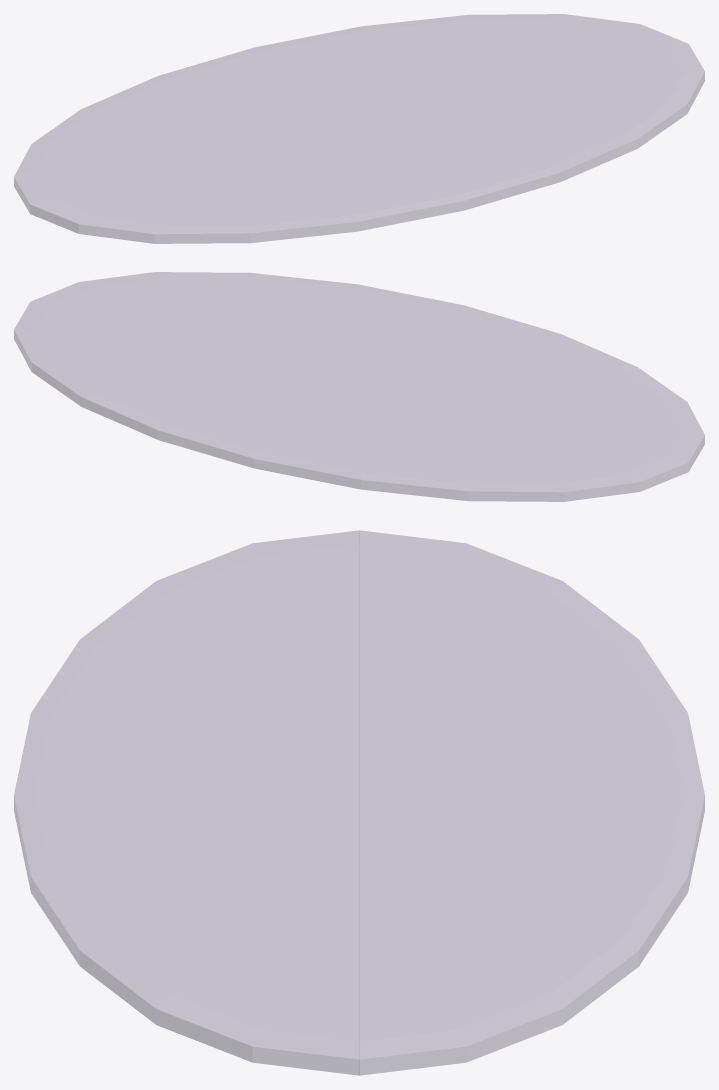
Rendered from shadow_ellipse.glb.
The picture shows the model from 3 angles, top to bottom: view 1: azimuth 30°, elevation 25°; view 2: azimuth 150°, elevation 25°; view 3: azimuth 270°, elevation 25°; orthographic projection. The views are drawn at different scales.
Parts seen in each view (by area): view 1: model; view 2: model; view 3: model.
Boxes of the visible parts, box(x1,y1,x2,y2) form: model: box(14, 14, 704, 243); model: box(14, 272, 704, 501); model: box(14, 530, 704, 1075).
Bounding box in the file's own units: 0.58 × 0.01 × 0.32.
